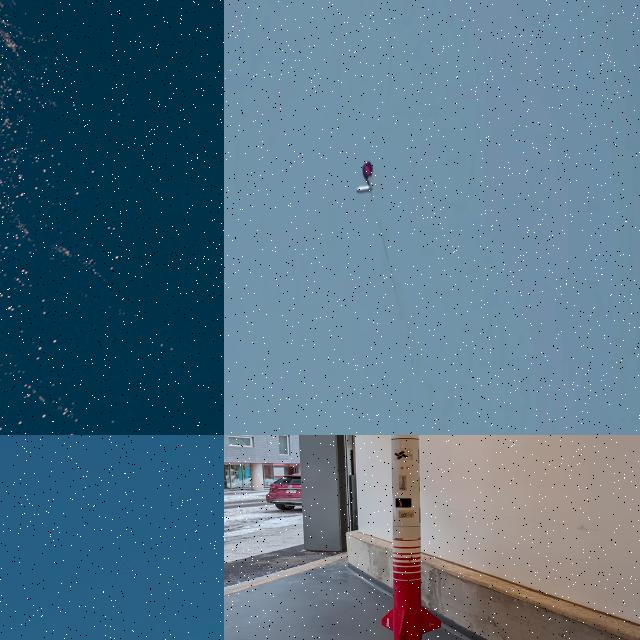Rocket: (381, 435, 441, 640)
